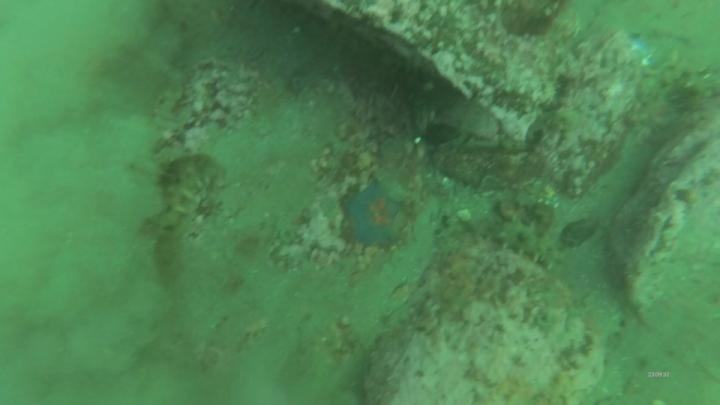holothurian: (144, 151, 227, 237), (634, 53, 719, 106), (489, 216, 567, 273)
starfish: (339, 177, 410, 252)
